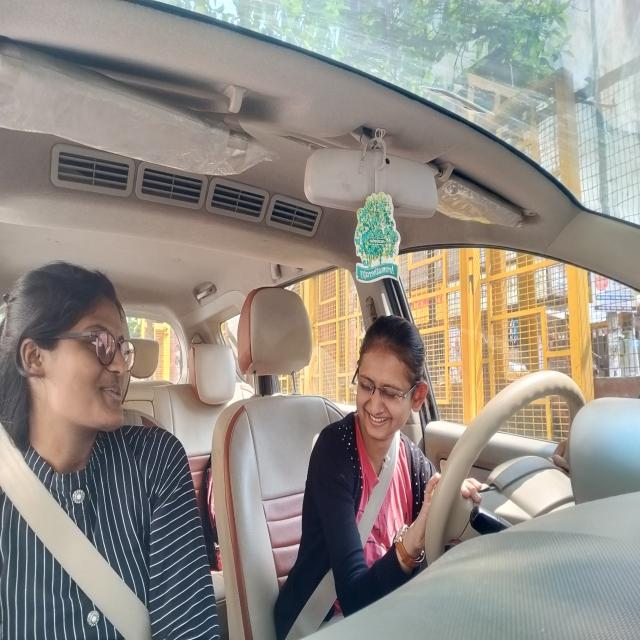LeftRight: (353, 311, 431, 463)
person: (11, 260, 138, 450)
talking: (98, 379, 125, 410), (365, 409, 392, 436)
